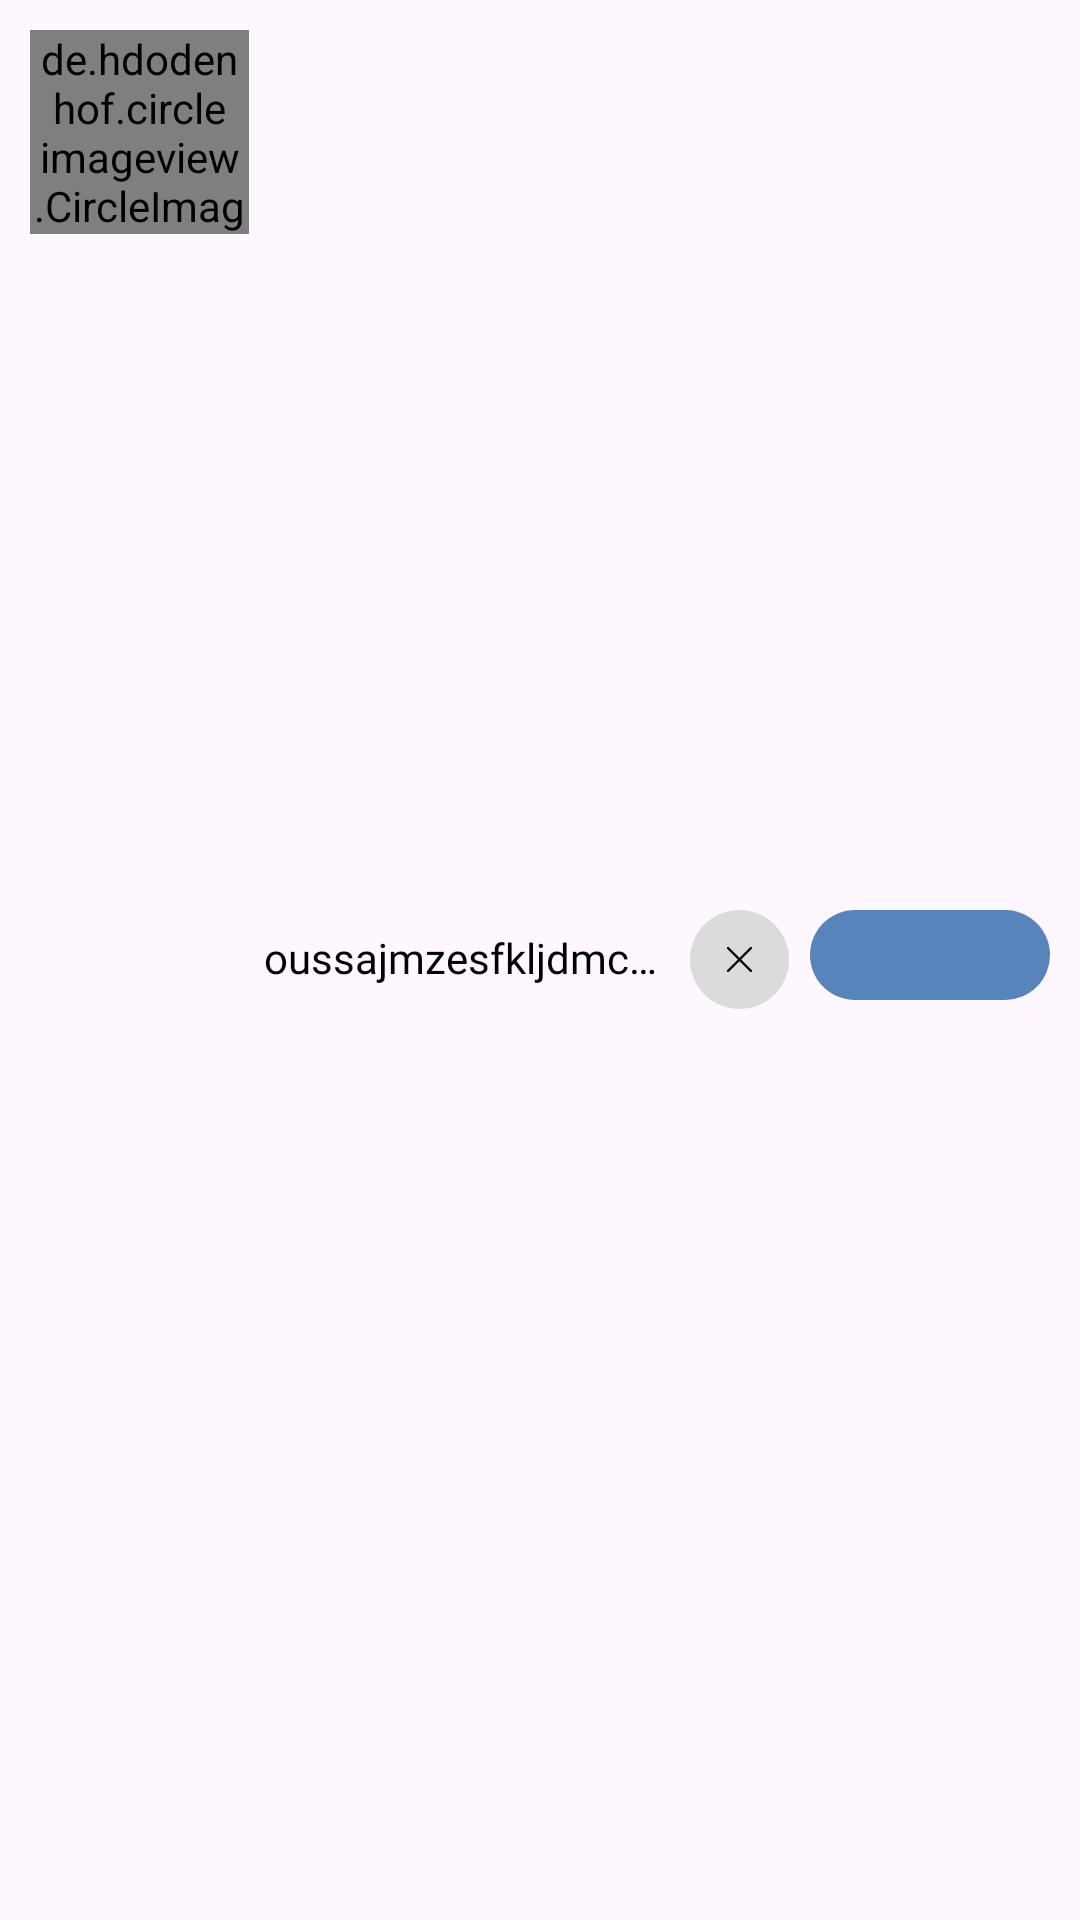

Locate icon controls on the screen. Image size 1080w x 1920h, boxes as {"x1": x1, "y1": y1, "x2": x2, "y2": y2}.
cancel: {"x1": 690, "y1": 910, "x2": 789, "y2": 1009}
